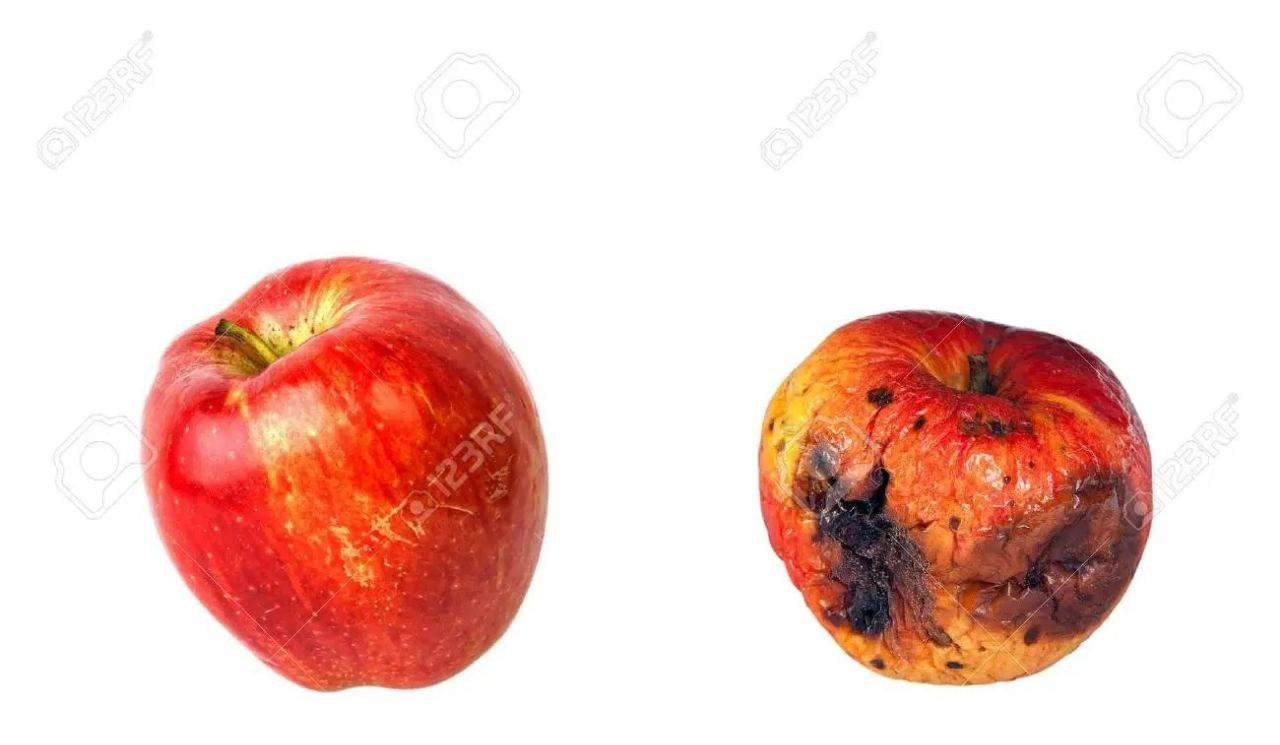Apple: (143, 254, 552, 686), (750, 316, 1149, 684)
